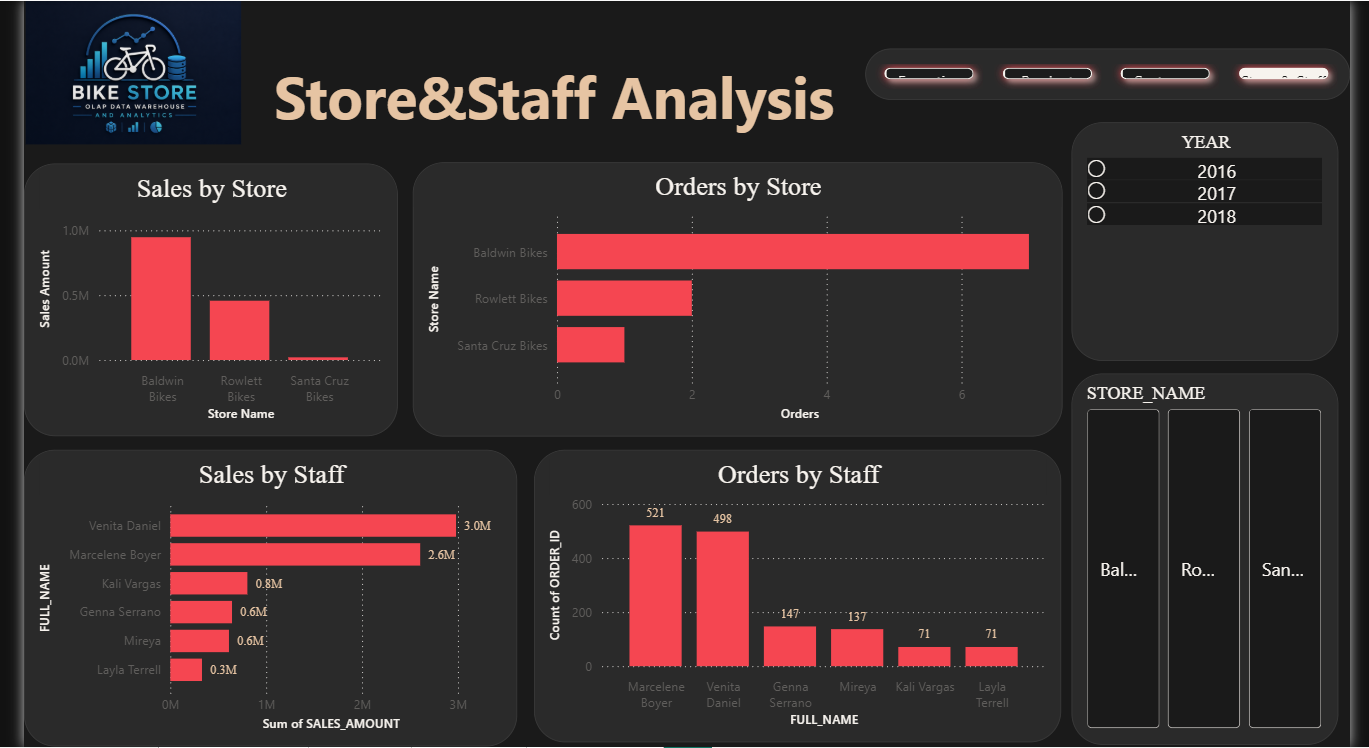

The dashboard page shown, as its layout file describes it:
{"tool":"powerbi","page":{"name":"Store & Staff","canvas":[1280,720],"ordinal":3},"visuals":[{"type":"image","box":[0,0,211.3,138.6],"z":0},{"type":"listSlicer","fields":{"Values":["dim_date.YEAR"]},"box":[1011.3,116.6,258,230.5],"z":1000},{"type":"textbox","box":[211.3,48,601,91.9],"z":2000},{"type":"advancedSlicerVisual","fields":{"Values":["dim_staffs.STORE_NAME"]},"box":[1011.3,359.5,258,358.1],"z":3000},{"type":"pageNavigator","box":[812.4,45.3,467.9,49.4],"z":4000},{"type":"clusteredBarChart","title":"Orders by Store","fields":{"Category":["dim_stores.STORE_NAME"],"Y":["Count(fact_sales.ORDER_ID)"]},"box":[374.6,155.1,627.1,264.8],"z":5000},{"type":"columnChart","title":"Sales by Store","fields":{"Category":["dim_stores.STORE_NAME"],"Y":["Sum(fact_sales.SALES_AMOUNT)"]},"box":[0,156.4,360.9,263.5],"z":6000},{"type":"clusteredBarChart","title":"Sales by Staff","fields":{"Category":["dim_staffs.FULL_NAME"],"Y":["Sum(fact_sales.SALES_AMOUNT)"]},"box":[0,433.6,476.2,286.8],"z":7000},{"type":"clusteredColumnChart","title":" Orders by Staff","fields":{"Category":["dim_staffs.FULL_NAME"],"Y":["Count(fact_sales.ORDER_ID)"]},"box":[492.6,433.6,509.1,282.7],"z":8000}]}

Visuals, with their boxes in screenshot pixels (x1, y1, x2, y2), scaled from the page's 1280x720 canvas onto the 1369x748 screenshot:
image: x1=0, y1=0, x2=226, y2=144
listSlicer - dim_date.YEAR: x1=1082, y1=121, x2=1358, y2=361
textbox: x1=226, y1=50, x2=869, y2=145
advancedSlicerVisual - dim_staffs.STORE_NAME: x1=1082, y1=373, x2=1358, y2=746
pageNavigator: x1=869, y1=47, x2=1368, y2=98
"Orders by Store" clusteredBarChart: x1=401, y1=161, x2=1071, y2=436
"Sales by Store" columnChart: x1=0, y1=162, x2=386, y2=436
"Sales by Staff" clusteredBarChart: x1=0, y1=450, x2=509, y2=747
" Orders by Staff" clusteredColumnChart: x1=527, y1=450, x2=1071, y2=744
